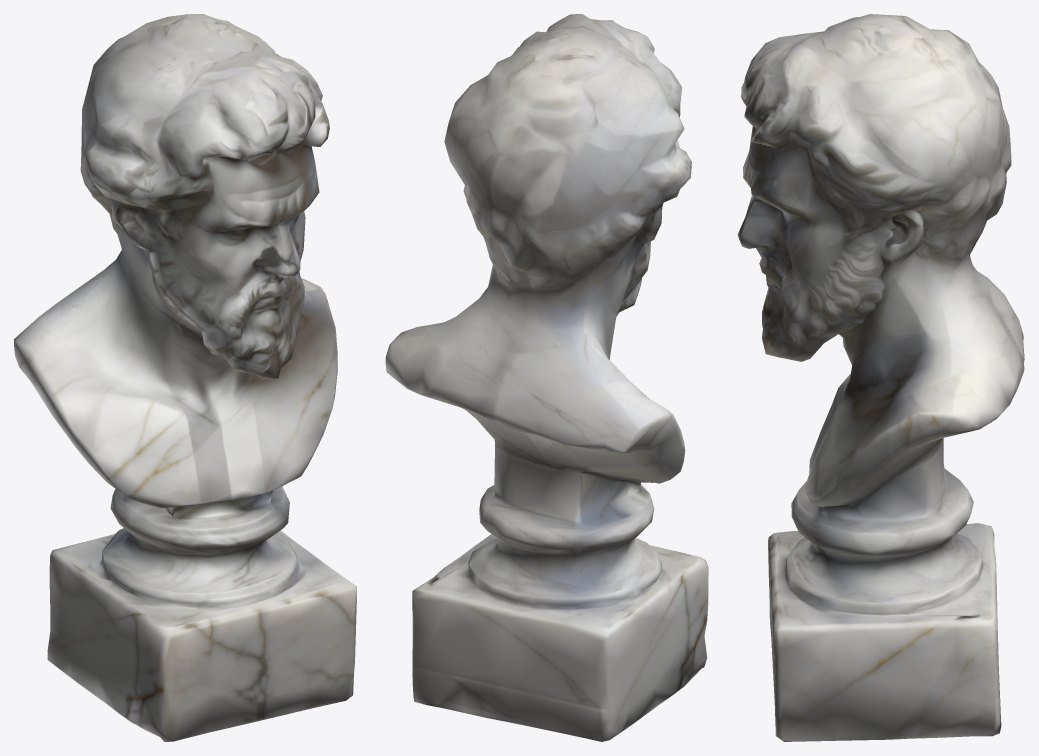
Rendered from marble_bust.glb.
The picture shows the model from 3 angles, left to right: view 1: azimuth 30°, elevation 25°; view 2: azimuth 150°, elevation 25°; view 3: azimuth 270°, elevation 25°; orthographic projection. The views are drawn at different scales.
Size of the model in its own units: 0.91 by 2.01 by 0.7817.
1 material, 1 textured.
